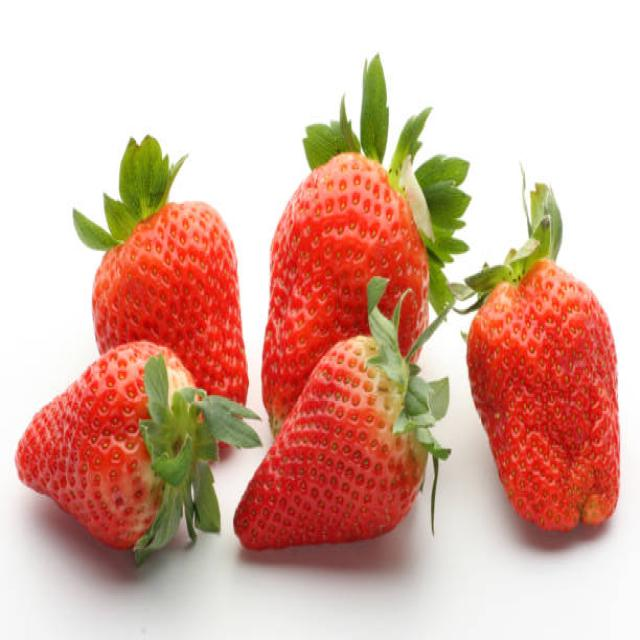Healthy Fruit: (262, 157, 430, 430), (464, 261, 620, 531), (236, 340, 422, 549), (13, 342, 196, 550), (92, 200, 248, 416)
